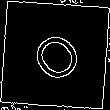O_SE: (22, 21, 88, 89)
